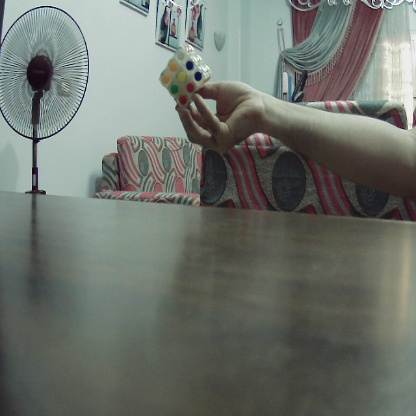Rubix Cube: (160, 47, 213, 102)
